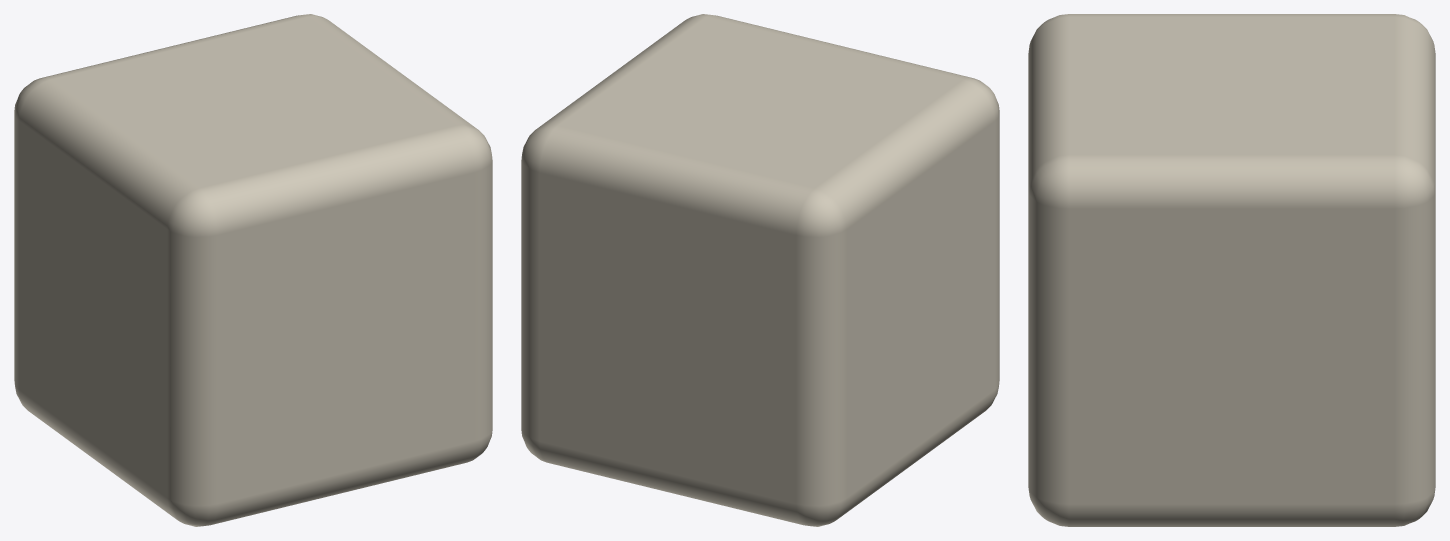
Rendered from plinth.gltf.
3 renders of one model, left to right at view 1: azimuth 30°, elevation 25°; view 2: azimuth 150°, elevation 25°; view 3: azimuth 270°, elevation 25°, orthographic. The views are drawn at different scales.
Parts seen in each view (by area): view 1: plinth; view 2: plinth; view 3: plinth.
Part boxes in pixels (<box>): plinth: <box>14,14,492,526</box>; plinth: <box>521,14,999,526</box>; plinth: <box>1028,14,1435,526</box>.
Size of the model in its own units: 1 by 1 by 1.
